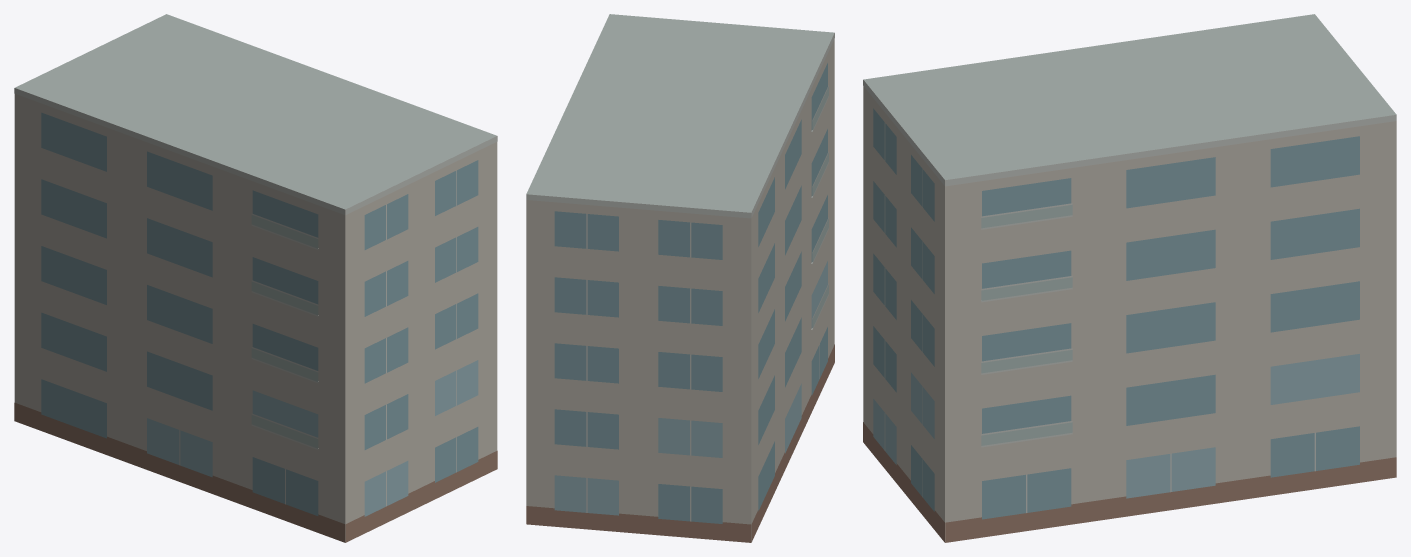
The model's file is survey-upis-32747635.glb.
3 renders of one model, left to right at view 1: azimuth 30°, elevation 25°; view 2: azimuth 150°, elevation 25°; view 3: azimuth 270°, elevation 25°, orthographic. The views are drawn at different scales.
Visible parts, largest first — view 1: survey-upis-32747635.tmp; view 2: survey-upis-32747635.tmp; view 3: survey-upis-32747635.tmp.
Boxes of the visible parts, left/top/right/bottom form: survey-upis-32747635.tmp: left=14, top=14, right=497, bottom=542; survey-upis-32747635.tmp: left=526, top=14, right=834, bottom=542; survey-upis-32747635.tmp: left=863, top=14, right=1396, bottom=542.
Size of the model in its own units: 13.97 by 14.2 by 18.94.
